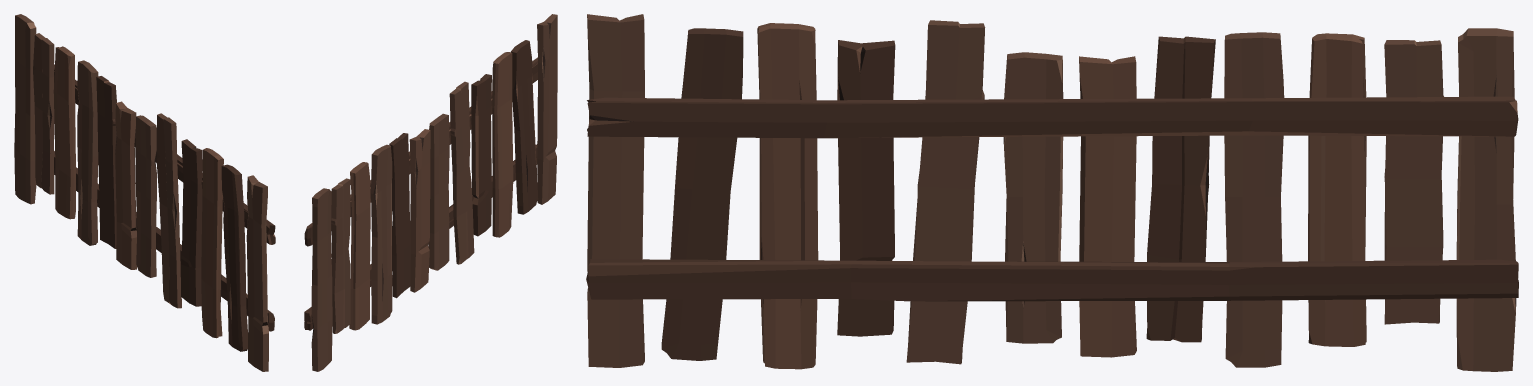
File: FenceWoodLarge_02.glb
The picture shows the model from 3 angles, left to right: view 1: azimuth 30°, elevation 25°; view 2: azimuth 150°, elevation 25°; view 3: azimuth 270°, elevation 25°; orthographic projection. The views are drawn at different scales.
Visible parts, largest first — view 1: FenceWoodLarge_02; view 2: FenceWoodLarge_02; view 3: FenceWoodLarge_02.
Part boxes in pixels (left/top/right/bottom): FenceWoodLarge_02: left=14, top=14, right=275, bottom=371; FenceWoodLarge_02: left=304, top=14, right=557, bottom=371; FenceWoodLarge_02: left=586, top=14, right=1518, bottom=371.
Size of what is drawn, in the model's own units: 0.1716 by 2.09 by 5.01.
Materials: 1 (1 with a texture image).
